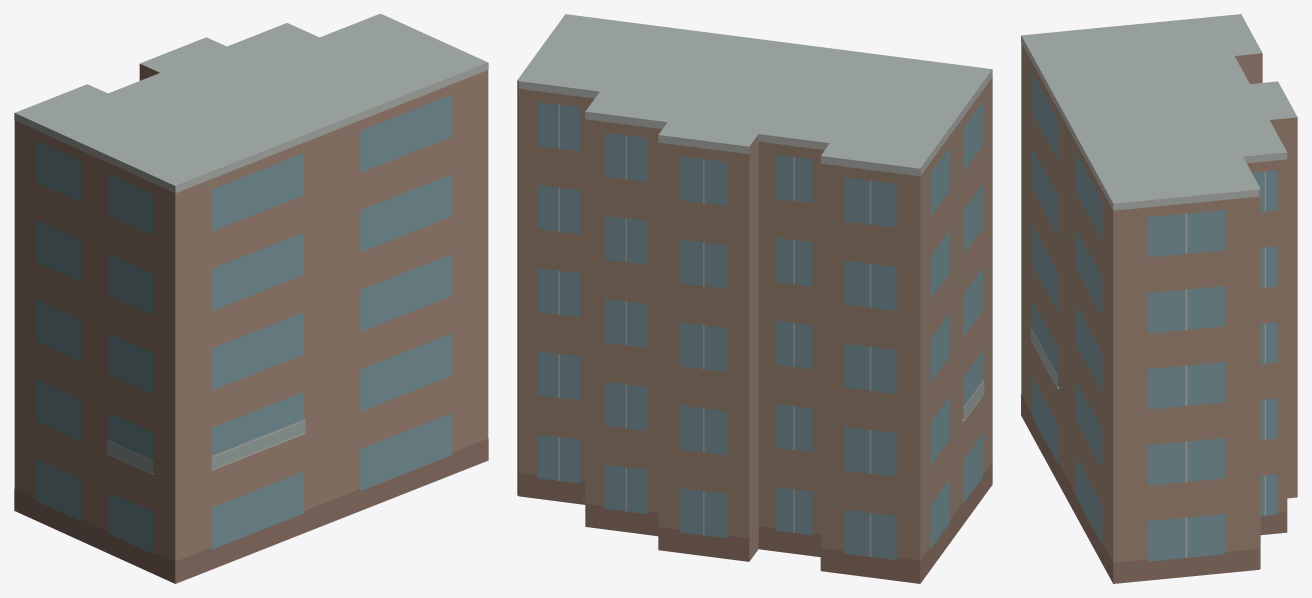
The model's file is survey-upis-32722761.glb.
The picture shows the model from 3 angles, left to right: view 1: azimuth 30°, elevation 25°; view 2: azimuth 150°, elevation 25°; view 3: azimuth 270°, elevation 25°; orthographic projection. The views are drawn at different scales.
Parts seen in each view (by area): view 1: survey-upis-32722761.tmp; view 2: survey-upis-32722761.tmp; view 3: survey-upis-32722761.tmp.
Part boxes in pixels (x1,y1,x2,y2): survey-upis-32722761.tmp: [14, 14, 488, 583]; survey-upis-32722761.tmp: [517, 14, 992, 583]; survey-upis-32722761.tmp: [1021, 14, 1297, 583].
Bounding box in the file's own units: 14.25 × 13.3 × 8.78.
